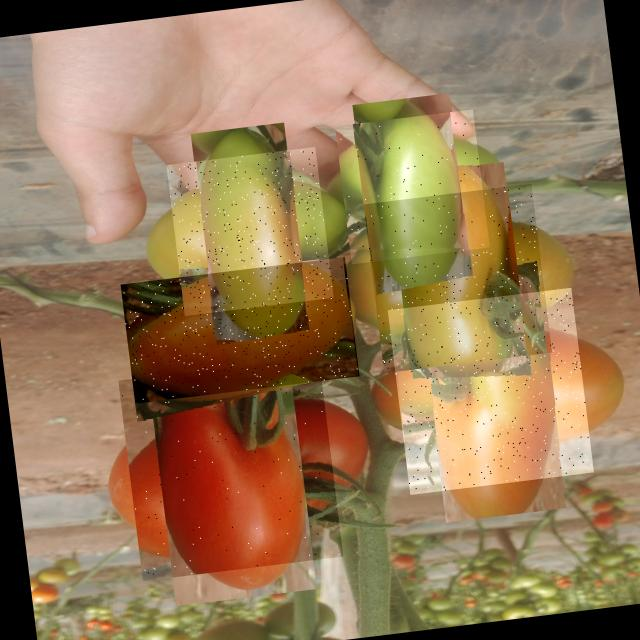Ripe Tomato: (118, 356, 343, 580), (388, 288, 594, 494)
Unripe Tomato: (120, 256, 359, 404), (364, 184, 552, 372), (166, 147, 333, 316), (334, 109, 490, 264)
